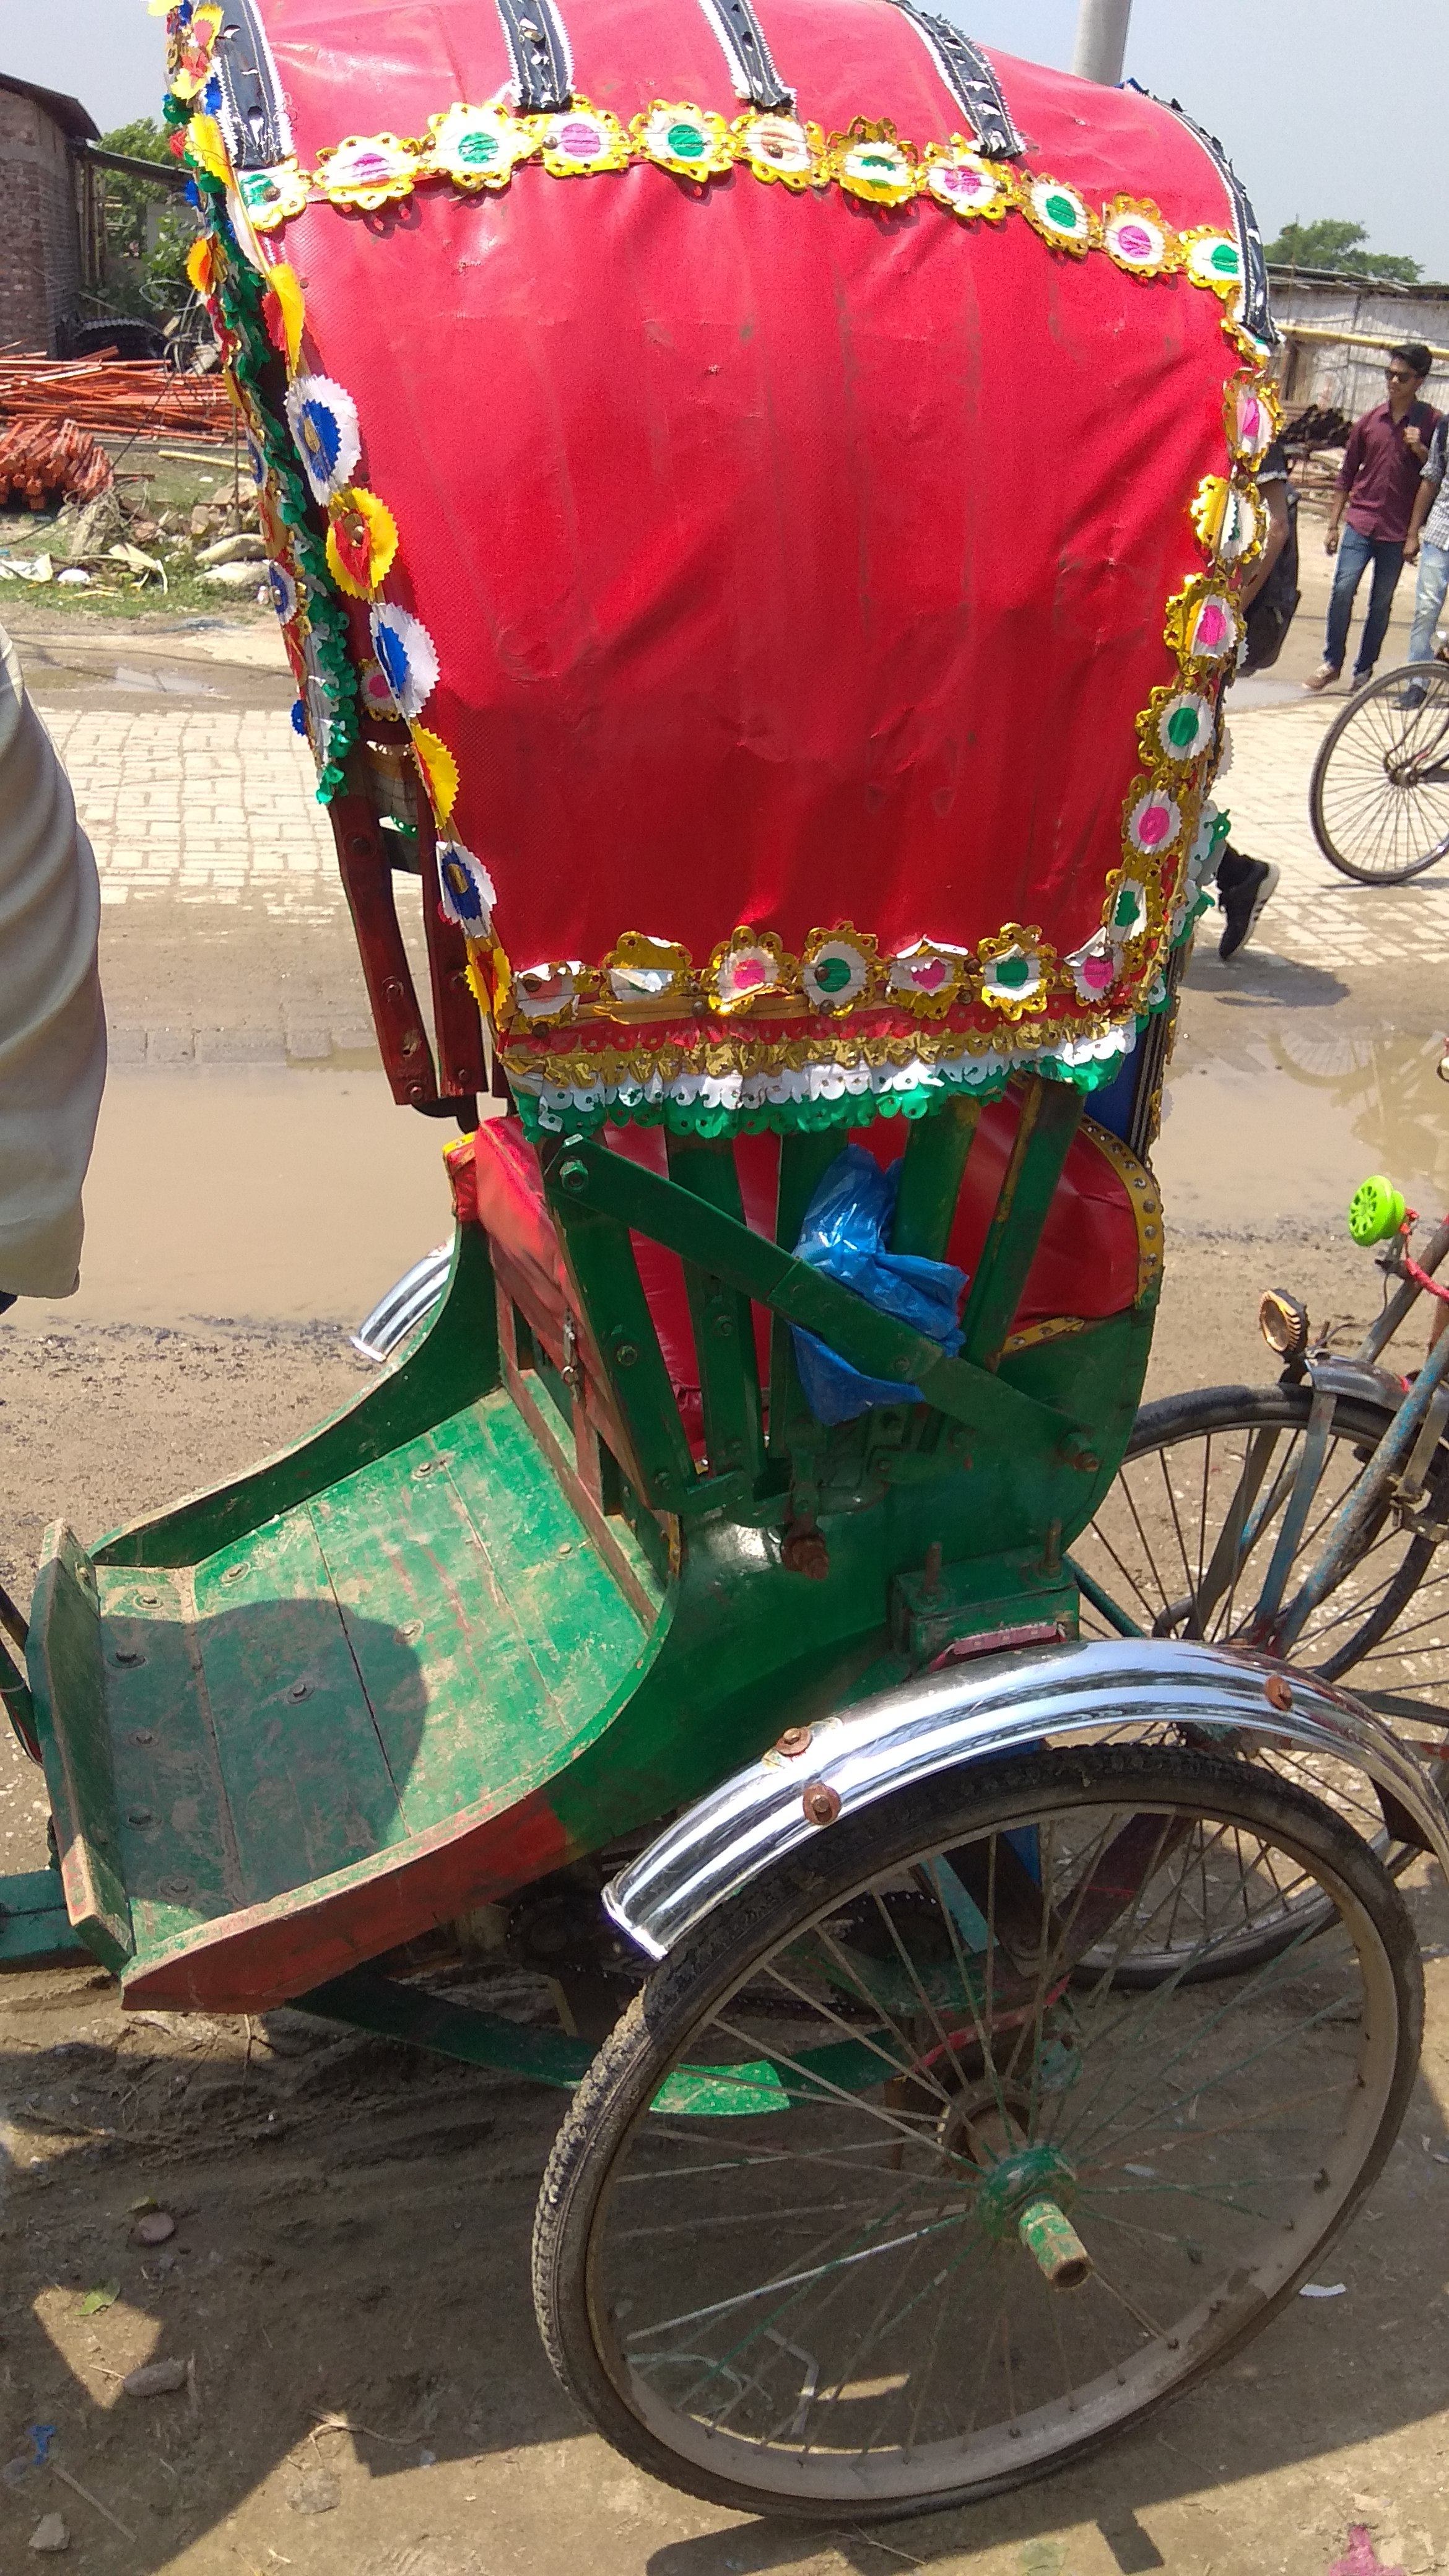Rickshaw: (12, 2, 1444, 2488)
